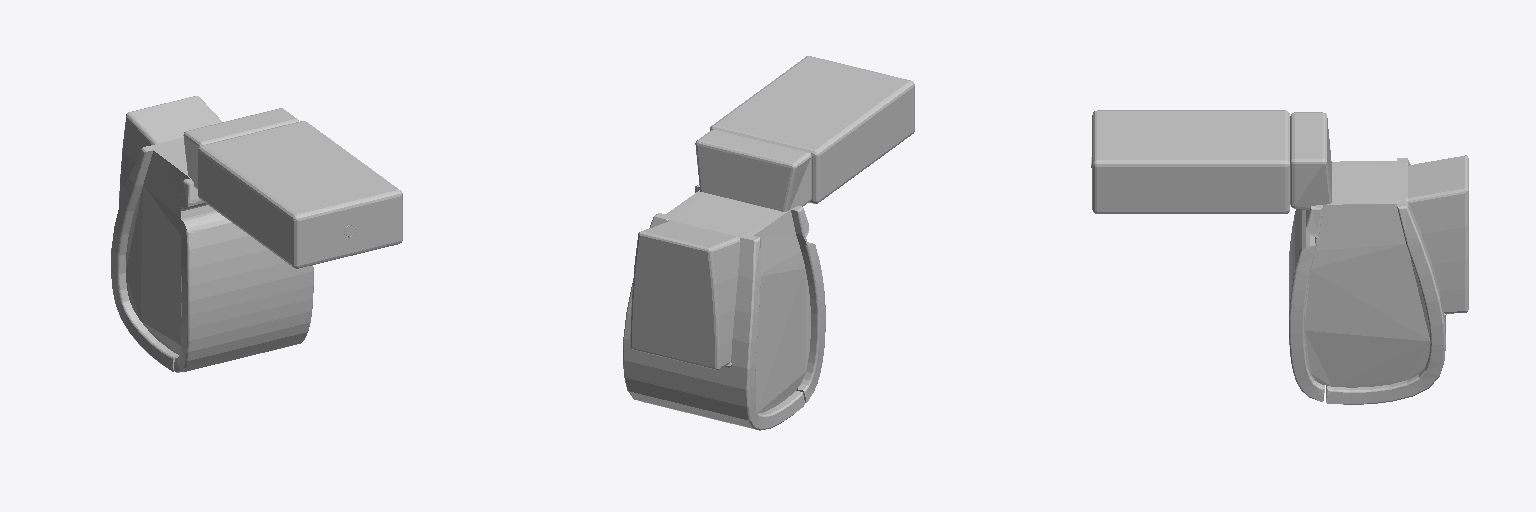
Rendered from matong.obj.
3 views of the same model, side by side, from view 1: azimuth 30°, elevation 25°; view 2: azimuth 150°, elevation 25°; view 3: azimuth 270°, elevation 25° (orthographic).
Visible parts, largest first — view 1: Object.1; view 2: Object.1; view 3: Object.1.
Part boxes in pixels (x1,y1,x2,y2): Object.1: (111, 96, 402, 372); Object.1: (623, 56, 914, 430); Object.1: (1091, 110, 1468, 404).
Size of the model in its own units: 343 by 626 by 888.